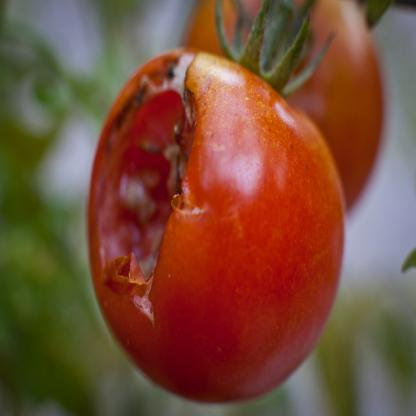tomato_rotten: (82, 41, 348, 404)
